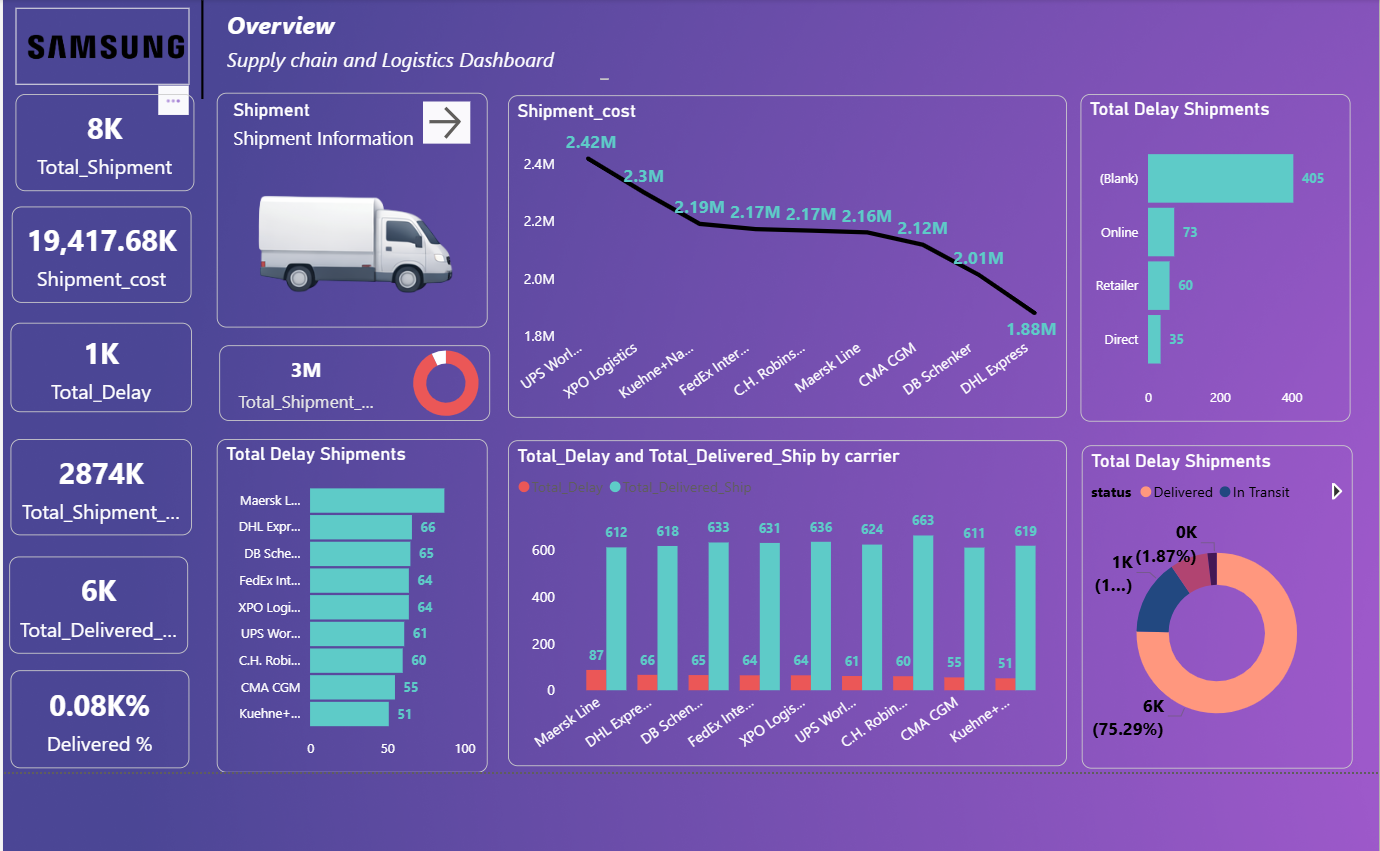

The page's visual inventory and layout, read from the dashboard file:
{"tool":"powerbi","page":{"name":"Shipment","canvas":[1280,720],"ordinal":4},"visuals":[{"type":"shape","box":[198.8,87.2,252.3,218.6],"z":0},{"type":"image","box":[220.9,147.7,208.1,145.3],"z":1000},{"type":"actionButton","box":[390.7,95.3,44.2,39.5],"z":2000},{"type":"textbox","title":"Shipment","box":[209.3,93,181.4,77.9],"z":3000},{"type":"textbox","title":"Overview","box":[203.5,8.1,365.1,72.1],"z":4000},{"type":"shape","box":[164,1.2,43,91.9],"z":5000},{"type":"image","box":[11.6,8.1,161.6,72.1],"z":6000},{"type":"card","fields":{"Values":["MeasuresTable.Shipment_cost"]},"box":[7.8,193.4,167.4,89.5],"z":7000},{"type":"card","fields":{"Values":["MeasuresTable.Total_Delay"]},"box":[6.5,301.1,168.7,83.1],"z":8000},{"type":"card","fields":{"Values":["MeasuresTable.Total_Shipment_Quantity"]},"box":[6.5,408.8,168.7,89.5],"z":9000},{"type":"shape","box":[201.3,322.1,251.8,70.1],"z":10000},{"type":"card","fields":{"Values":["MeasuresTable.Total_Shipment_Quantity"]},"box":[213,324.7,138.9,64.9],"z":11000},{"type":"clusteredBarChart","title":"Total Delay Shipments","fields":{"Category":["fact_shipment.carrier"],"Y":["MeasuresTable.Total_Delay"]},"box":[198.8,409.3,252.3,310.5],"z":12000},{"type":"donutChart","fields":{"Y":["MeasuresTable.Total_Shipment","MeasuresTable.Total_Delay"]},"box":[353.5,309.3,117.4,96.5],"z":13000},{"type":"card","fields":{"Values":["MeasuresTable.Total_Shipment"]},"box":[11.1,88.6,166.2,90.2],"z":14000},{"type":"card","fields":{"Values":["MeasuresTable.Total_Delivered_Ship"]},"box":[6.3,519.1,166.2,90.2],"z":15000},{"type":"card","fields":{"Values":["MeasuresTable.Delivered %"]},"box":[6.5,624.2,166.1,90.8],"z":16000},{"type":"clusteredColumnChart","fields":{"Category":["fact_shipment.carrier"],"Y":["MeasuresTable.Total_Delay","MeasuresTable.Total_Delivered_Ship"]},"box":[469.8,410.5,519.8,303.5],"z":17000},{"type":"lineChart","title":"Shipment_cost ","fields":{"Category":["fact_shipment.carrier"],"Y":["MeasuresTable.Shipment_cost"]},"box":[469.8,89.5,519.8,300],"z":18000},{"type":"clusteredBarChart","title":"Total Delay Shipments","fields":{"Category":["dim_customer.channel_type"],"Y":["MeasuresTable.Total_Delay"]},"box":[1002.3,88.4,251.2,304.7],"z":19000},{"type":"donutChart","title":"Total Delay Shipments","fields":{"Category":["fact_shipment.status"],"Y":["MeasuresTable.Total_Shipment"]},"box":[1003.4,414.6,251.6,300.7],"z":20000}]}

Visuals, with their boxes on the page's 1280x720 design canvas (x1, y1, x2, y2). These are canvas units, not pixel positions in the 1380x851 screenshot, which may show the page scaled, cropped or inside an application window:
shape: bbox=(199, 87, 451, 306)
image: bbox=(221, 148, 429, 293)
actionButton: bbox=(391, 95, 435, 135)
"Shipment" textbox: bbox=(209, 93, 391, 171)
"Overview" textbox: bbox=(204, 8, 569, 80)
shape: bbox=(164, 1, 207, 93)
image: bbox=(12, 8, 173, 80)
card - MeasuresTable.Shipment_cost: bbox=(8, 193, 175, 283)
card - MeasuresTable.Total_Delay: bbox=(6, 301, 175, 384)
card - MeasuresTable.Total_Shipment_Quantity: bbox=(6, 409, 175, 498)
shape: bbox=(201, 322, 453, 392)
card - MeasuresTable.Total_Shipment_Quantity: bbox=(213, 325, 352, 390)
"Total Delay Shipments" clusteredBarChart: bbox=(199, 409, 451, 720)
donutChart - MeasuresTable.Total_Shipment x MeasuresTable.Total_Delay: bbox=(354, 309, 471, 406)
card - MeasuresTable.Total_Shipment: bbox=(11, 89, 177, 179)
card - MeasuresTable.Total_Delivered_Ship: bbox=(6, 519, 172, 609)
card - MeasuresTable.Delivered %: bbox=(6, 624, 173, 715)
clusteredColumnChart - fact_shipment.carrier x MeasuresTable.Total_Delay: bbox=(470, 410, 990, 714)
"Shipment_cost " lineChart: bbox=(470, 90, 990, 390)
"Total Delay Shipments" clusteredBarChart: bbox=(1002, 88, 1254, 393)
"Total Delay Shipments" donutChart: bbox=(1003, 415, 1255, 715)
